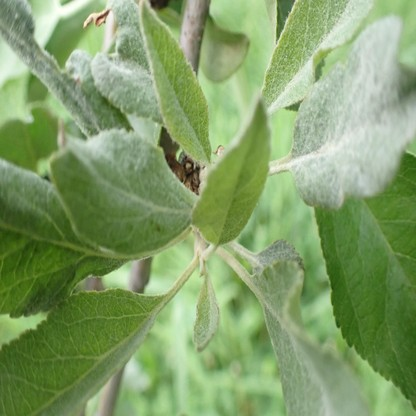powder: (262, 0, 413, 208), (317, 152, 416, 414), (253, 239, 371, 416), (1, 289, 165, 416), (46, 128, 185, 258), (62, 1, 163, 125), (139, 2, 213, 168), (191, 94, 270, 244), (193, 261, 220, 353), (1, 0, 36, 59)
